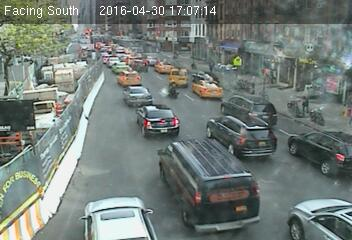neg: (284, 76, 311, 112), (313, 134, 333, 161), (177, 55, 195, 78), (251, 78, 263, 94), (234, 58, 245, 73), (72, 48, 82, 62)
